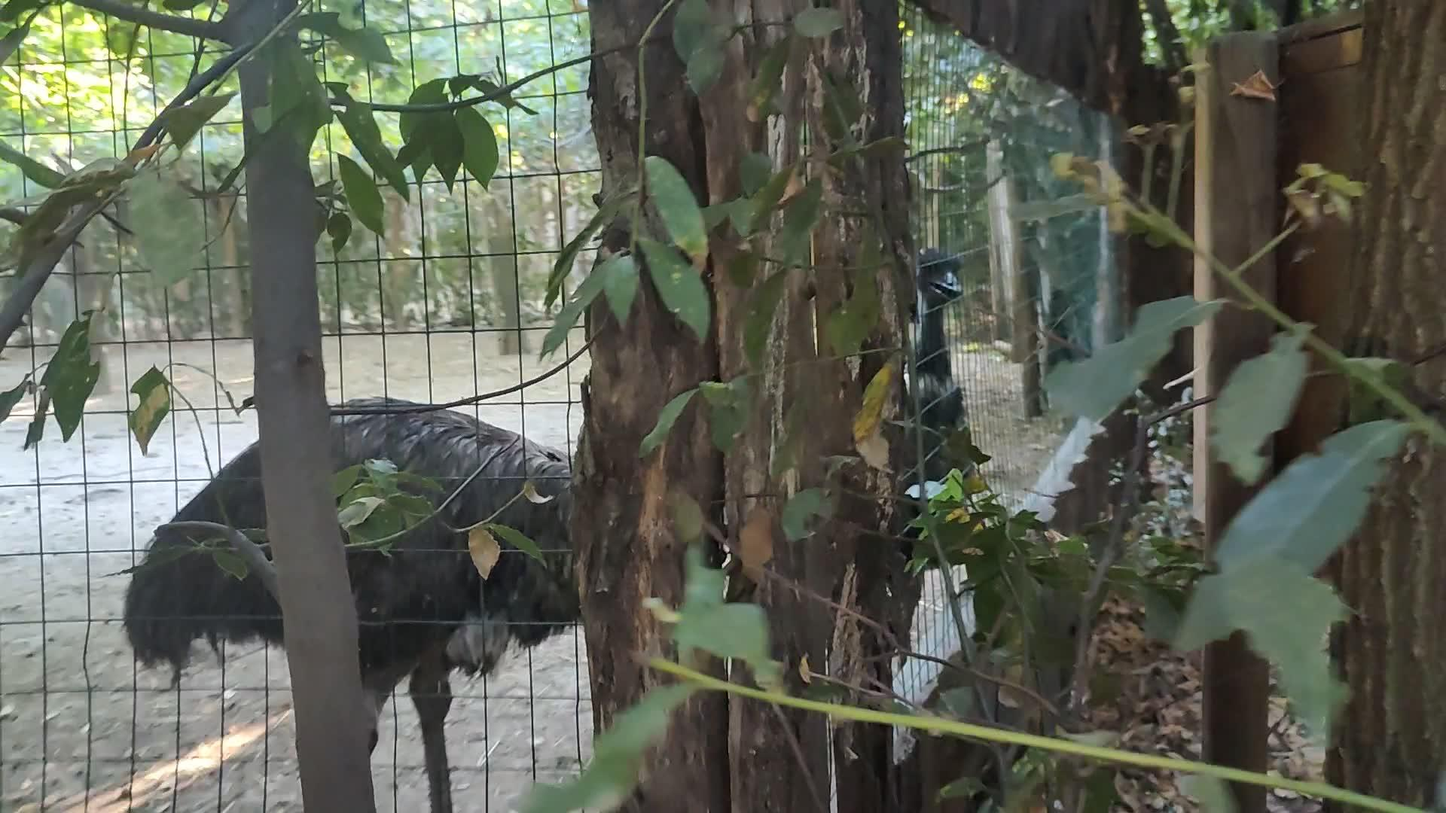apple: (122, 396, 581, 813), (914, 247, 964, 431)
